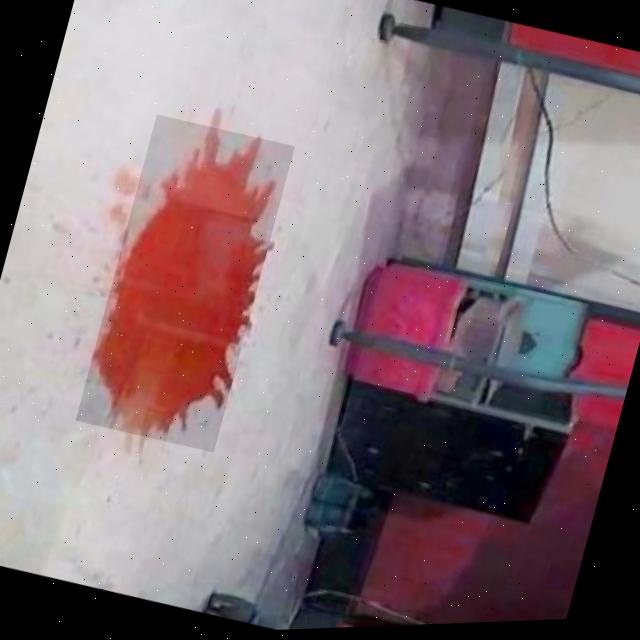spillage: (92, 127, 272, 435)
